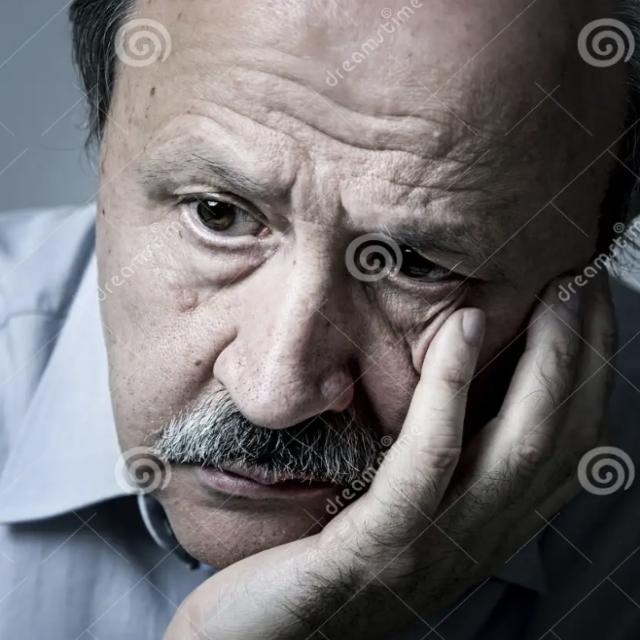sad: (111, 42, 570, 609)
